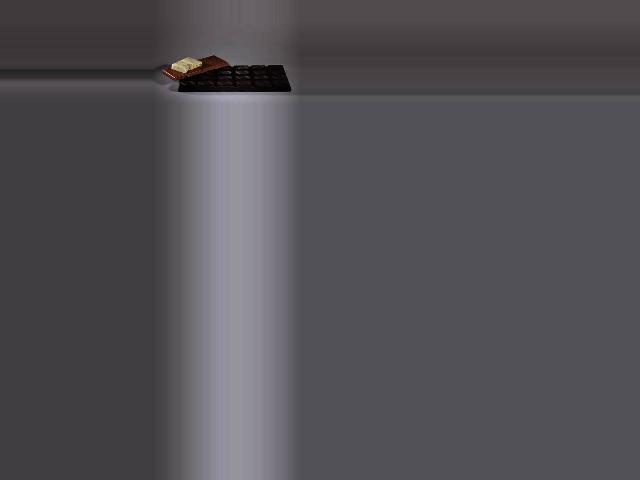chocolate: (171, 60, 291, 95)
